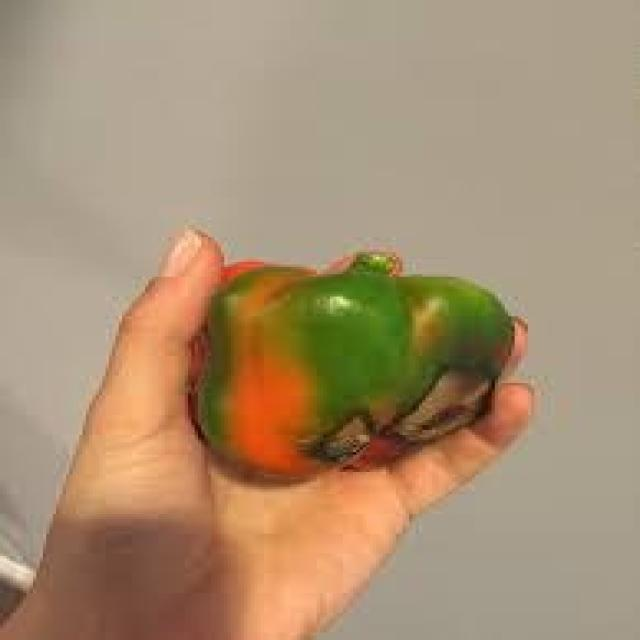Wet Waste: (187, 242, 527, 484)
